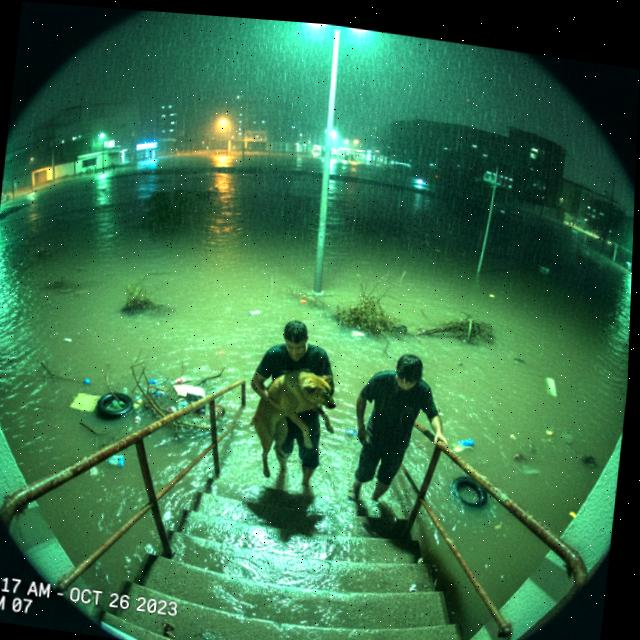civilian: (235, 308, 354, 506), (342, 337, 455, 525)
dog: (235, 354, 349, 494)
